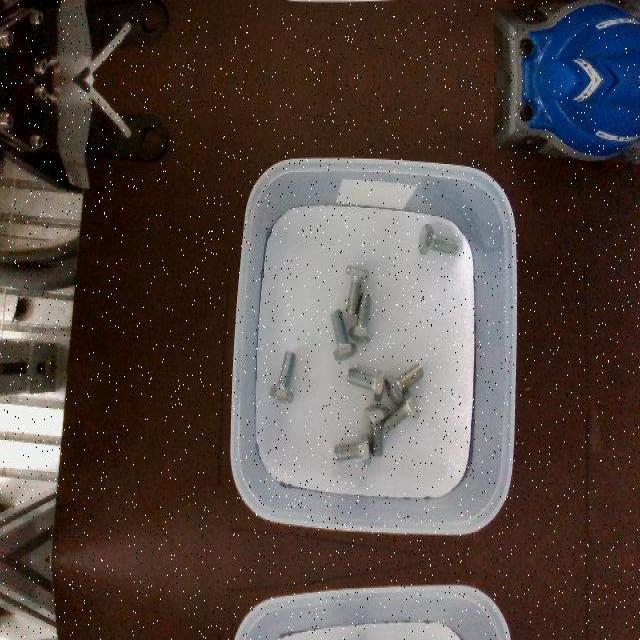screw: (385, 363, 424, 405), (382, 390, 420, 432), (270, 350, 297, 402), (330, 308, 356, 362), (346, 367, 385, 401), (364, 405, 389, 457), (334, 433, 371, 467), (348, 292, 373, 342), (345, 266, 369, 314)
